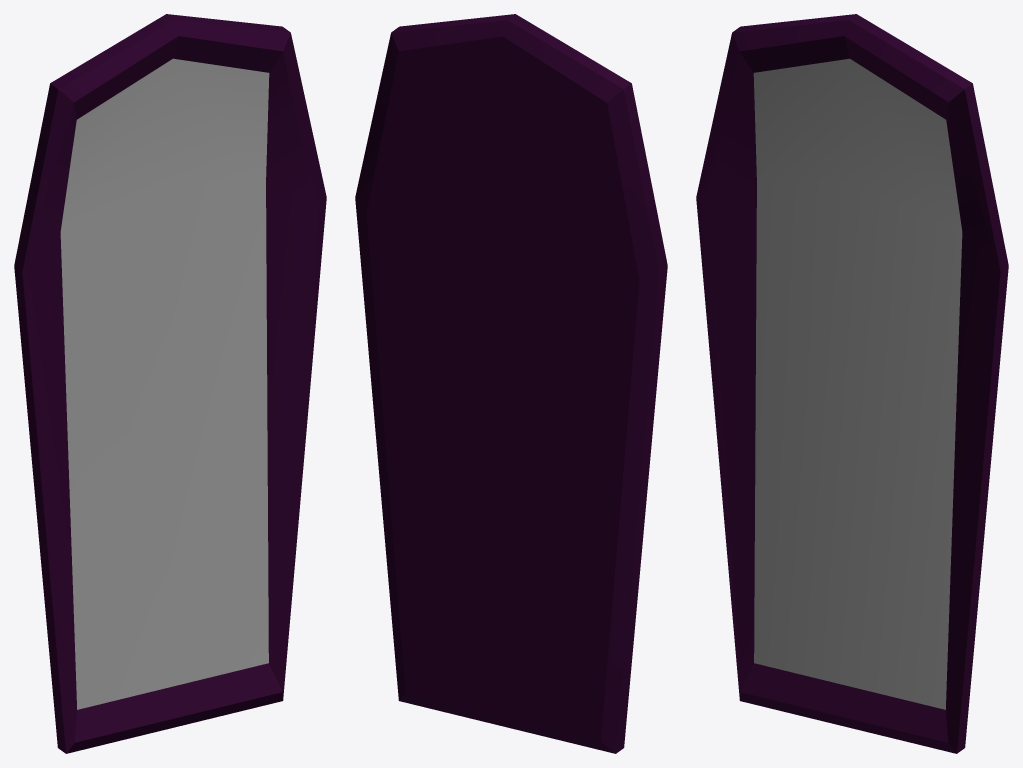
File: Mirror.fbx
3 views of the same model, side by side, from view 1: azimuth 30°, elevation 25°; view 2: azimuth 150°, elevation 25°; view 3: azimuth 330°, elevation 25° (orthographic).
Parts seen in each view (by area): view 1: Mirror; view 2: Mirror; view 3: Mirror.
Part boxes in pixels (box(x1,y1,x2,y2)): Mirror: box(14, 14, 326, 753); Mirror: box(355, 14, 667, 753); Mirror: box(696, 14, 1008, 753).
Size of the model in its own units: 5.45 by 12.09 by 0.5293.
